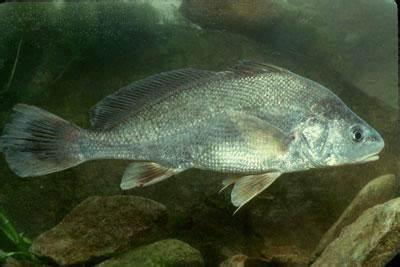Silver Perch: (3, 61, 386, 215)
